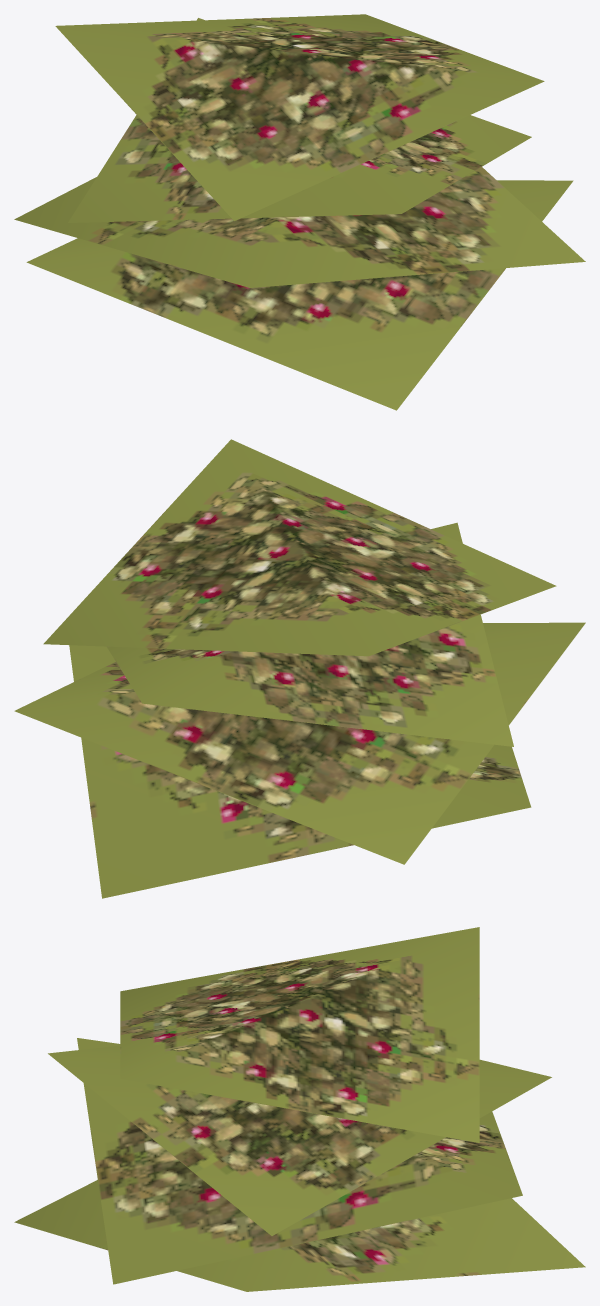
Rendered from flora_fruit_berry_05_v2.glb.
3 renders of one model, top to bottom at view 1: azimuth 30°, elevation 25°; view 2: azimuth 150°, elevation 25°; view 3: azimuth 270°, elevation 25°, orthographic. The views are drawn at different scales.
Visible parts, largest first — view 1: flora_fruit_berry_05_v2_part0; view 2: flora_fruit_berry_05_v2_part0; view 3: flora_fruit_berry_05_v2_part0.
Part boxes in pixels (bbox=[...]): flora_fruit_berry_05_v2_part0: bbox=[14, 14, 585, 410]; flora_fruit_berry_05_v2_part0: bbox=[14, 439, 585, 898]; flora_fruit_berry_05_v2_part0: bbox=[14, 927, 585, 1291].
Size of the model in its own units: 6.79 by 3.17 by 6.79.
1 material, 1 textured.
